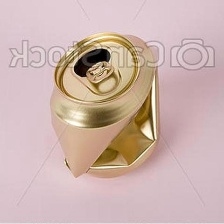can: (44, 29, 162, 183)
